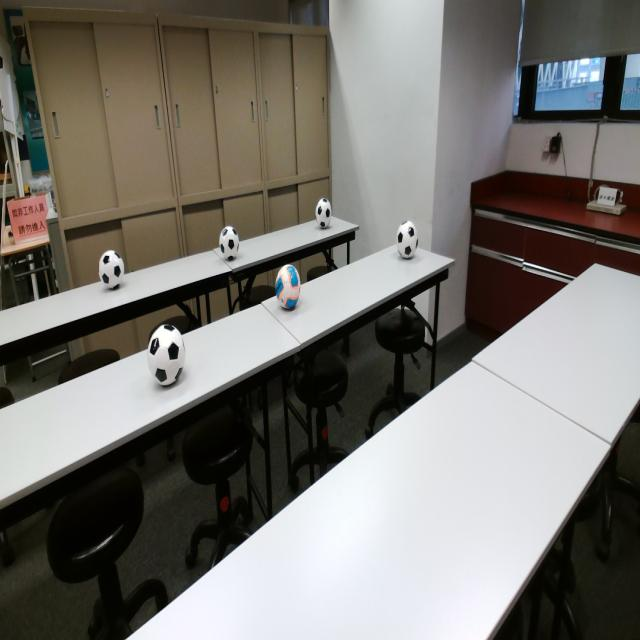ball: (147, 320, 188, 393), (270, 255, 306, 316), (97, 245, 128, 294), (394, 217, 420, 265), (314, 196, 337, 237), (216, 225, 239, 261)
